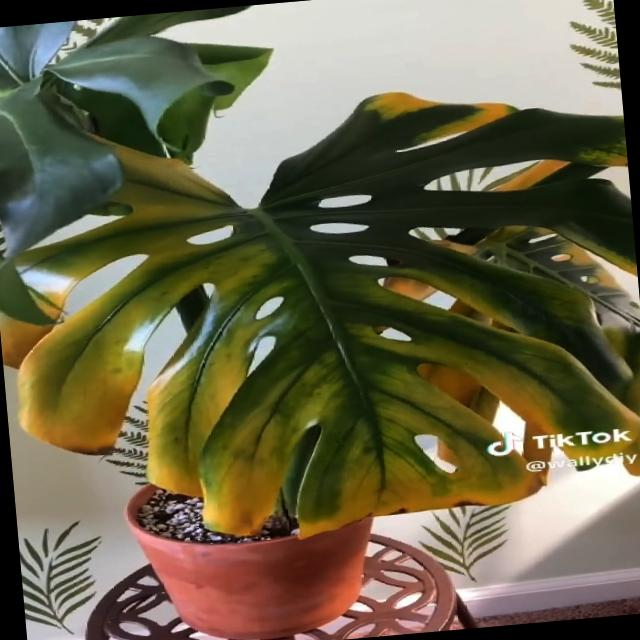lisc_przelany: (0, 93, 640, 543)
roslina_przelana: (0, 5, 640, 539)
